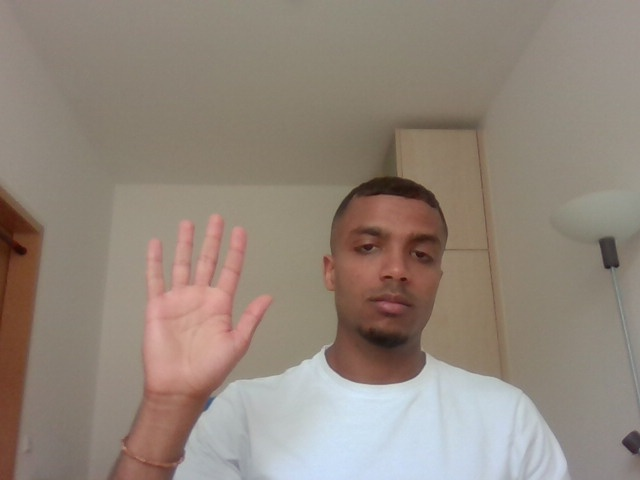never: (133, 199, 283, 409)
